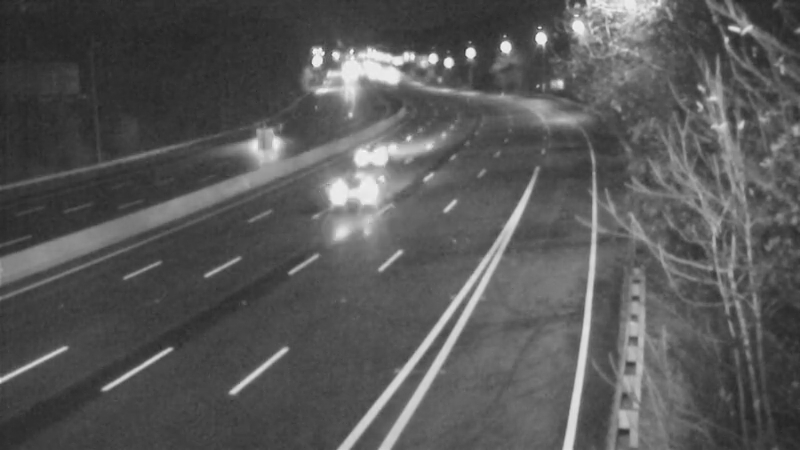vehicle: (328, 116, 408, 196), (322, 153, 402, 233), (368, 54, 418, 104), (248, 109, 298, 159)
